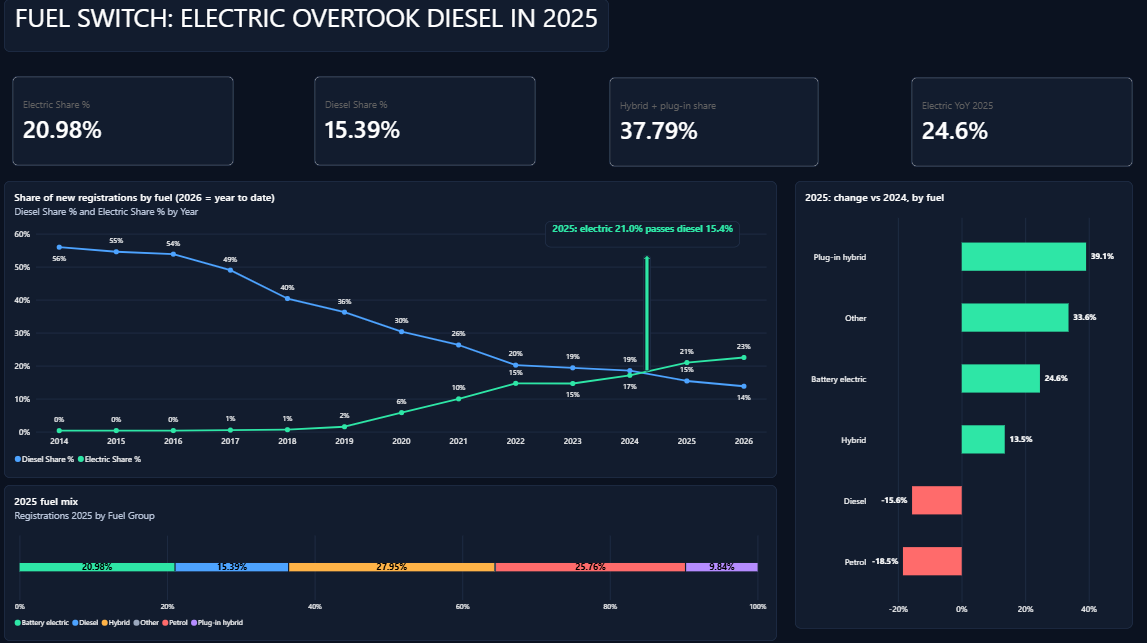

What the dashboard file says about the page in this screenshot:
{"tool":"powerbi","page":{"name":"Electric and hybrid are replacing diesel","canvas":[1920,1080],"ordinal":1},"visuals":[{"type":"hundredPercentStackedColumnChart","fields":{"Category":["Date.Date.Variation.Date Hierarchy.Year","Date.Date.Variation.Date Hierarchy.Quarter","Date.Date.Variation.Date Hierarchy.Month","Date.Date.Variation.Date Hierarchy.Day"],"Series":["df_VEH0160_UK.Fuel Group"],"Y":["df_VEH0160_UK.Total Registrations"]},"box":[17.5,23.3,1416.7,501.9],"z":0},{"type":"lineChart","fields":{"Category":["Date.Date.Variation.Date Hierarchy.Year","Date.Date.Variation.Date Hierarchy.Quarter","Date.Date.Variation.Date Hierarchy.Month","Date.Date.Variation.Date Hierarchy.Day"],"Y":["df_VEH0160_UK.Electric Share %"]},"box":[17.5,560.2,1416.7,475.6],"z":1000},{"type":"tableEx","title":"2025: registrations and change vs 2024, by fuel","fields":{"Values":["df_VEH0160_UK.Fuel Group","df_VEH0160_UK.Total Registrations","df_VEH0160_UK.YoY %"]},"box":[1464.8,338.5,440.6,402.7],"z":2000},{"type":"tableEx","title":"2025: cars vs vans","fields":{"Values":["df_VEH0160_UK.BodyType","df_VEH0160_UK.Total Registrations","df_VEH0160_UK.YoY %"]},"box":[1464.8,774.7,440.6,284.5],"z":3000},{"type":"slicer","fields":{"Values":["Date.Date.Variation.Date Hierarchy.Year"]},"box":[1465,23,441,297],"z":4000}]}

Visuals, with their boxes in screenshot pixels (x1, y1, x2, y2), scaled from the page's 1920x1080 canvas onto the 1147x643 screenshot:
hundredPercentStackedColumnChart - Date.Date.Variation.Date Hierarchy.Year x Date.Date.Variation.Date Hierarchy.Quarter: pyautogui.locateOnScreen(10, 14, 857, 313)
lineChart - Date.Date.Variation.Date Hierarchy.Year x Date.Date.Variation.Date Hierarchy.Quarter: pyautogui.locateOnScreen(10, 334, 857, 617)
"2025: registrations and change vs 2024, by fuel" tableEx: pyautogui.locateOnScreen(875, 202, 1138, 441)
"2025: cars vs vans" tableEx: pyautogui.locateOnScreen(875, 461, 1138, 631)
slicer - Date.Date.Variation.Date Hierarchy.Year: pyautogui.locateOnScreen(875, 14, 1139, 191)
